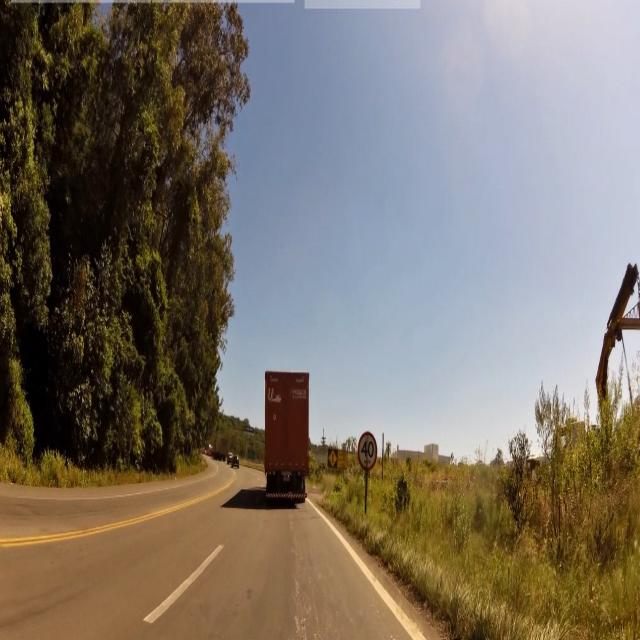R-19: (357, 430, 377, 471)
